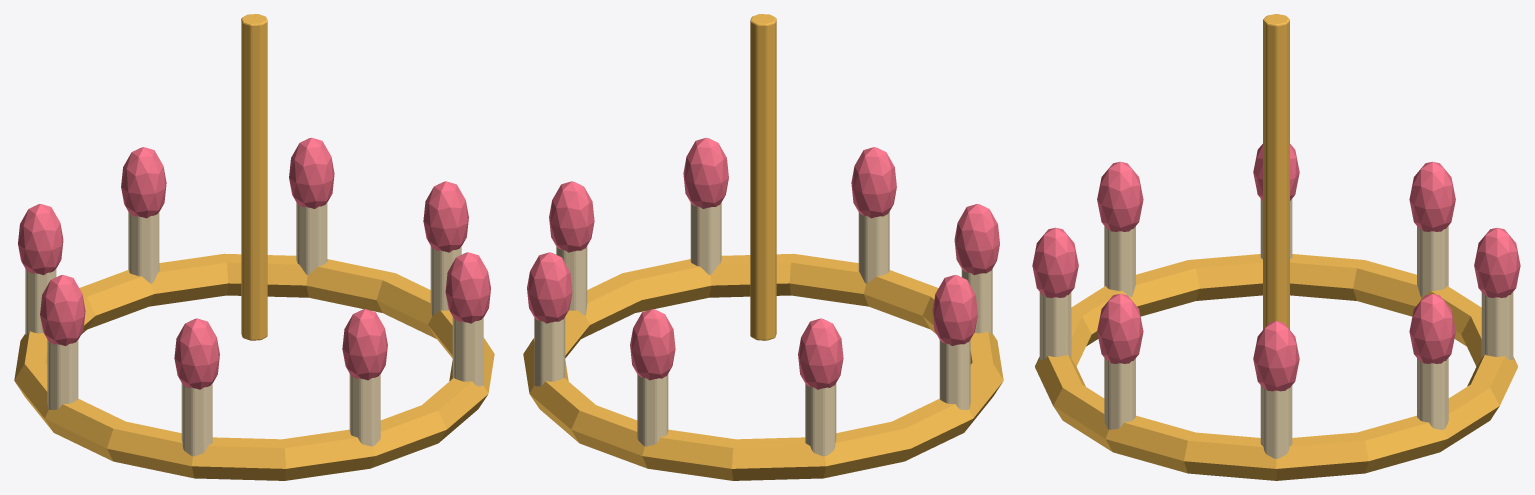
The model's file is chandelier.glb.
3 renders of one model, left to right at view 1: azimuth 30°, elevation 25°; view 2: azimuth 150°, elevation 25°; view 3: azimuth 270°, elevation 25°, orthographic.
Parts seen in each view (by area): view 1: ChandelierMesh; view 2: ChandelierMesh; view 3: ChandelierMesh.
Part boxes in pixels (left/top/right/bottom): ChandelierMesh: left=14, top=14, right=494, bottom=480; ChandelierMesh: left=523, top=14, right=1003, bottom=480; ChandelierMesh: left=1032, top=14, right=1520, bottom=480.
Size of the model in its own units: 2.09 by 1.73 by 2.1.
